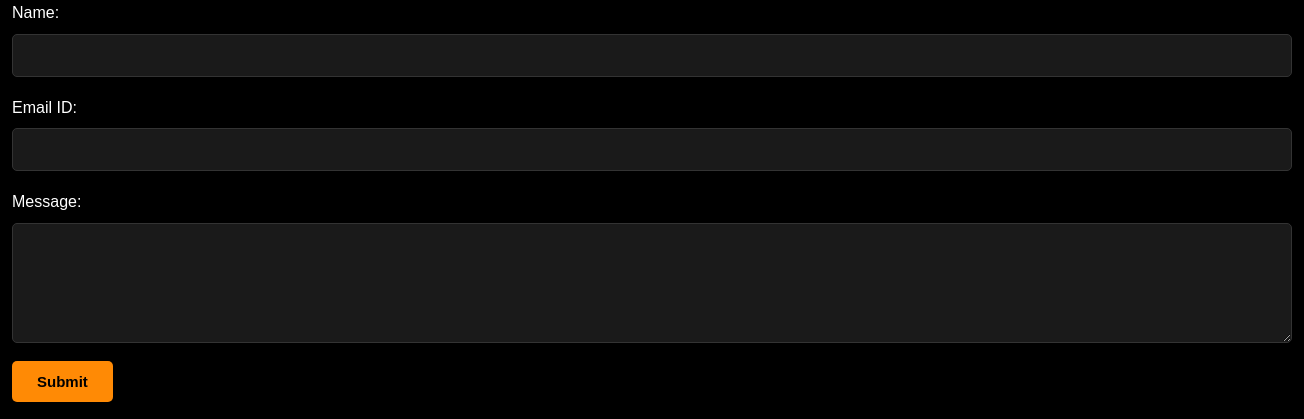
ContactForm › shows success message with reference number on successful submission
Type "John Doe" into the field labelled "Name:" at (652, 55), box [12, 34, 1292, 77]
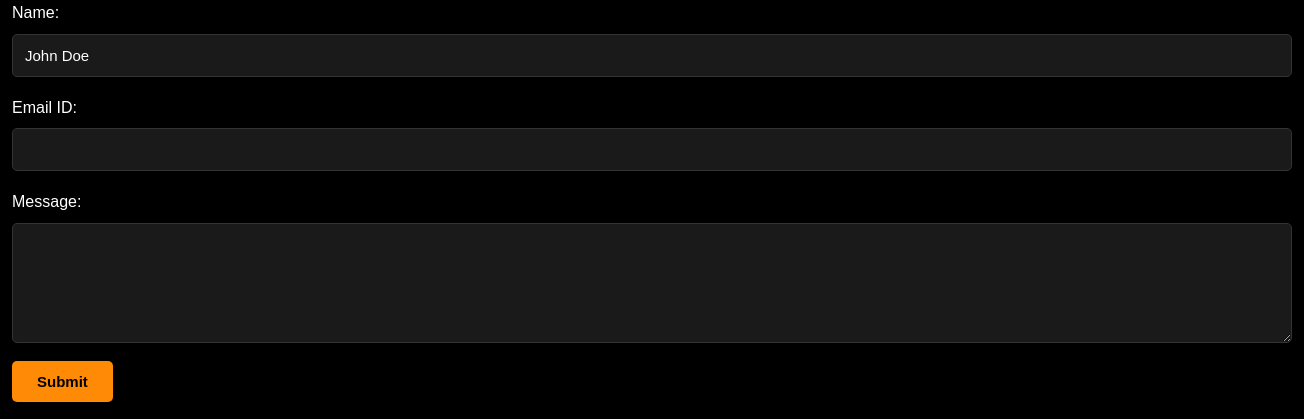
Type "john@example.com" into the field labelled "Email ID:" at (652, 150), box [12, 128, 1292, 171]
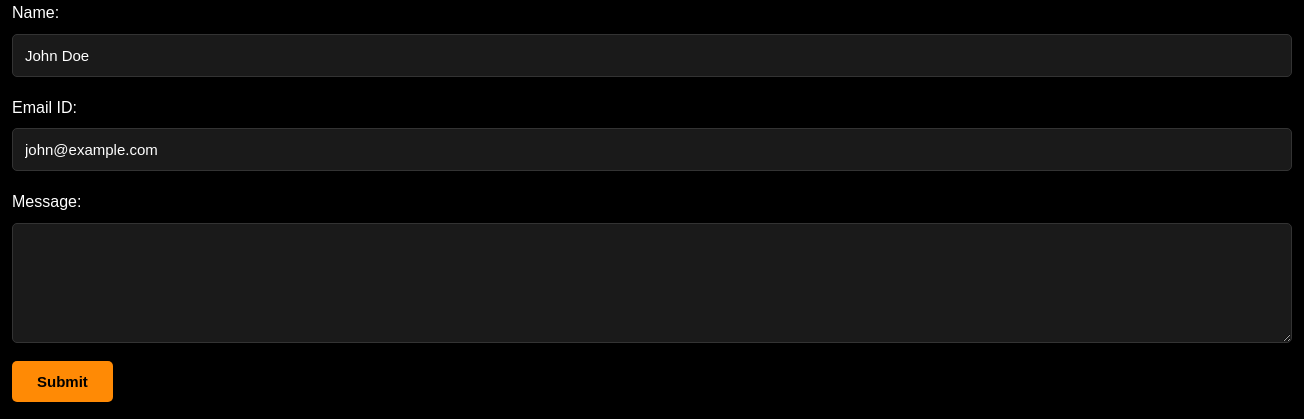
Type "Hello there" into the text box labelled "Message:" at (652, 283), box [12, 223, 1292, 343]
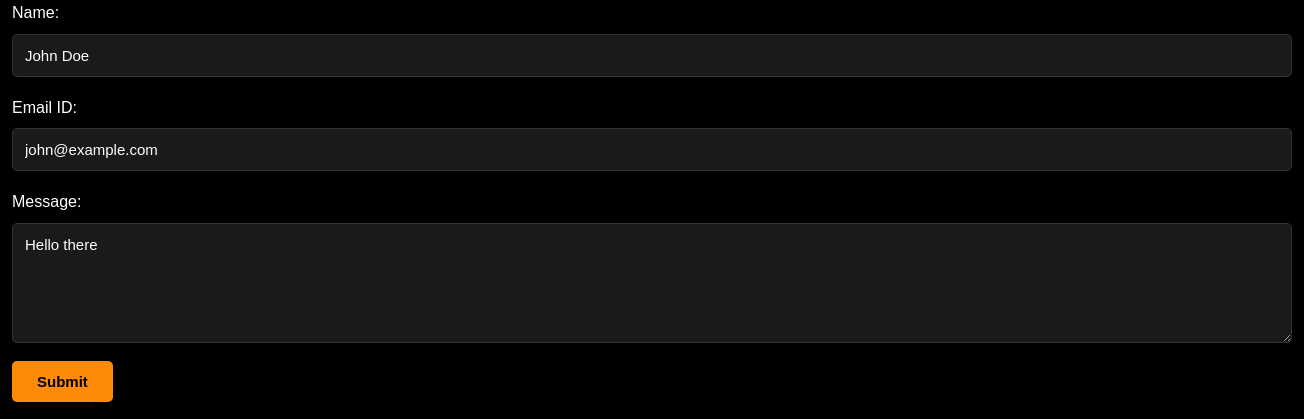
Submit the form "Submit"
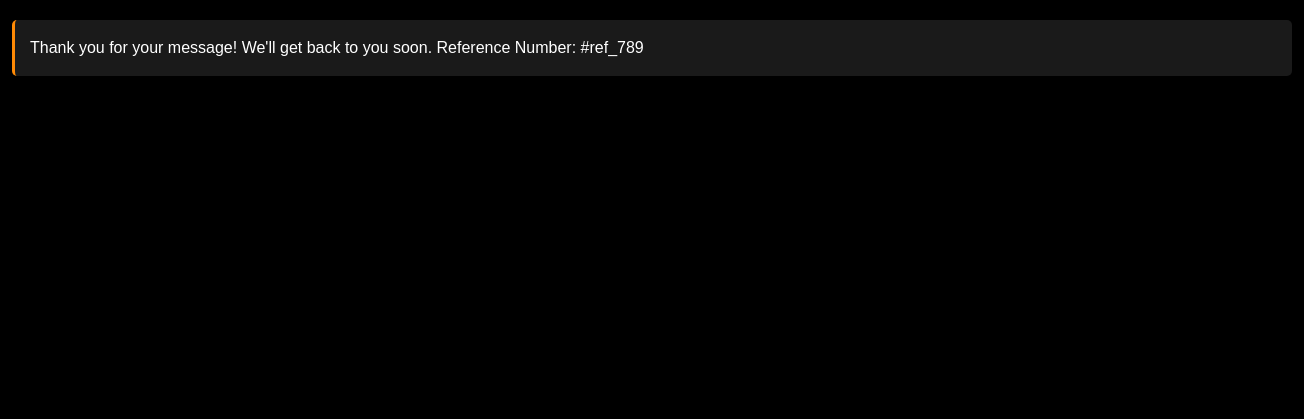
Expected: the text "Reference Number: #ref_789" is shown, [30, 39, 644, 56]
